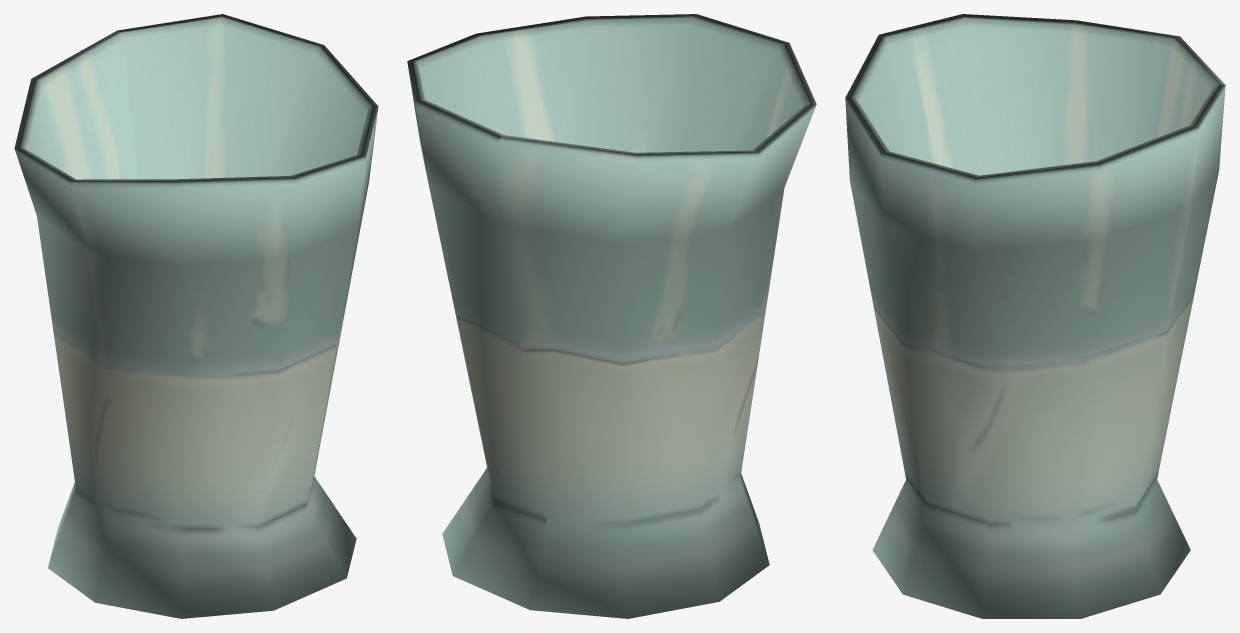
File: Milkshake_glass 1.fbx
The picture shows the model from 3 angles, left to right: view 1: azimuth 30°, elevation 25°; view 2: azimuth 150°, elevation 25°; view 3: azimuth 270°, elevation 25°; orthographic projection. The views are drawn at different scales.
Visible parts, largest first — view 1: Milkshake_glass; view 2: Milkshake_glass; view 3: Milkshake_glass.
Part boxes in pixels (x1,y1,x2,y2): Milkshake_glass: (14,14,378,618); Milkshake_glass: (407,14,816,618); Milkshake_glass: (845,14,1225,618).
Bounding box in the file's own units: 18.75 × 25.49 × 18.47.
